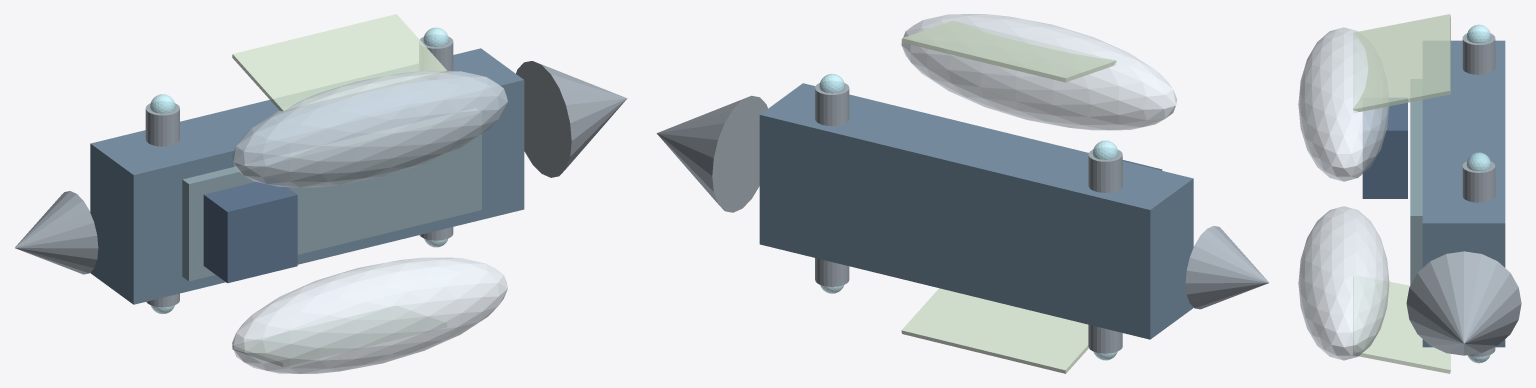
Rendered from SKYSHIP_06_MERCY_BARQUE_mercy_barque.glb.
The picture shows the model from 3 angles, left to right: view 1: azimuth 30°, elevation 25°; view 2: azimuth 150°, elevation 25°; view 3: azimuth 270°, elevation 25°; orthographic projection. The views are drawn at different scales.
Visible parts, largest first — view 1: aetherwood_hull, upper_deck, left_aether_cell, right_aether_cell, right_lift_sail, command_cabin, forward_ram, left_lift_sail, stern_finial, right_thruster_-1.24, right_thruster_1.24; view 2: aetherwood_hull, right_aether_cell, left_lift_sail, forward_ram, right_lift_sail, stern_finial, right_thruster_-1.24, right_thruster_1.24, left_thruster_-1.24, left_thruster_1.24; view 3: aetherwood_hull, left_aether_cell, right_aether_cell, forward_ram, right_lift_sail, left_lift_sail, command_cabin, upper_deck, right_thruster_1.24, right_thruster_-1.24, right_thruster_glow_-1.24, right_thruster_glow_1.24.
Boxes of the visible parts, <box> form: aetherwood_hull: <box>90,48,524,304</box>; upper_deck: <box>182,108,481,281</box>; left_aether_cell: <box>232,257,507,373</box>; right_aether_cell: <box>232,71,507,187</box>; right_lift_sail: <box>232,14,447,113</box>; command_cabin: <box>203,178,297,283</box>; forward_ram: <box>516,61,627,177</box>; left_lift_sail: <box>232,306,446,366</box>; stern_finial: <box>15,191,98,274</box>; right_thruster_-1.24: <box>145,101,179,146</box>; right_thruster_1.24: <box>419,35,453,79</box>; aetherwood_hull: <box>759,83,1193,339</box>; right_aether_cell: <box>901,14,1177,130</box>; left_lift_sail: <box>901,288,1088,373</box>; forward_ram: <box>656,95,767,212</box>; right_lift_sail: <box>901,20,1116,82</box>; stern_finial: <box>1185,226,1269,309</box>; right_thruster_-1.24: <box>1088,148,1122,192</box>; right_thruster_1.24: <box>815,81,849,126</box>; left_thruster_-1.24: <box>1088,324,1122,353</box>; left_thruster_1.24: <box>815,258,849,286</box>; aetherwood_hull: <box>1422,40,1505,347</box>; left_aether_cell: <box>1298,206,1389,360</box>; right_aether_cell: <box>1298,27,1389,181</box>; forward_ram: <box>1406,251,1521,355</box>; right_lift_sail: <box>1353,14,1450,112</box>; left_lift_sail: <box>1353,275,1450,373</box>; command_cabin: <box>1362,98,1407,198</box>; upper_deck: <box>1410,79,1422,284</box>; right_thruster_1.24: <box>1462,159,1495,202</box>; right_thruster_-1.24: <box>1462,32,1495,74</box>; right_thruster_glow_-1.24: <box>1466,24,1491,43</box>; right_thruster_glow_1.24: <box>1466,152,1491,170</box>.
Bounding box in the file's own units: 5.57 × 2.57 × 1.83.
